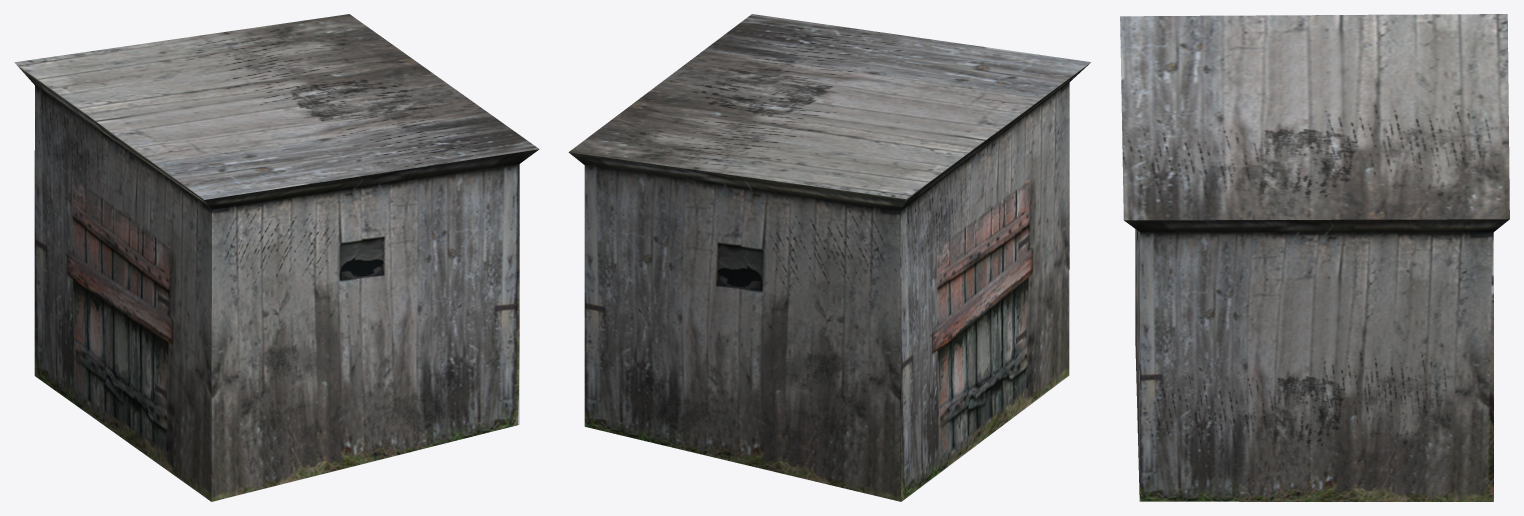
The model's file is house1.fbx.
3 views of the same model, side by side, from view 1: azimuth 30°, elevation 25°; view 2: azimuth 150°, elevation 25°; view 3: azimuth 270°, elevation 25° (orthographic). The views are drawn at different scales.
Parts seen in each view (by area): view 1: house1; view 2: house1; view 3: house1.
Part boxes in pixels (left/top/right/bottom): house1: left=14, top=14, right=539, bottom=501; house1: left=568, top=14, right=1091, bottom=501; house1: left=1120, top=14, right=1509, bottom=501.
Bounding box in the file's own units: 802 × 704 × 771.
